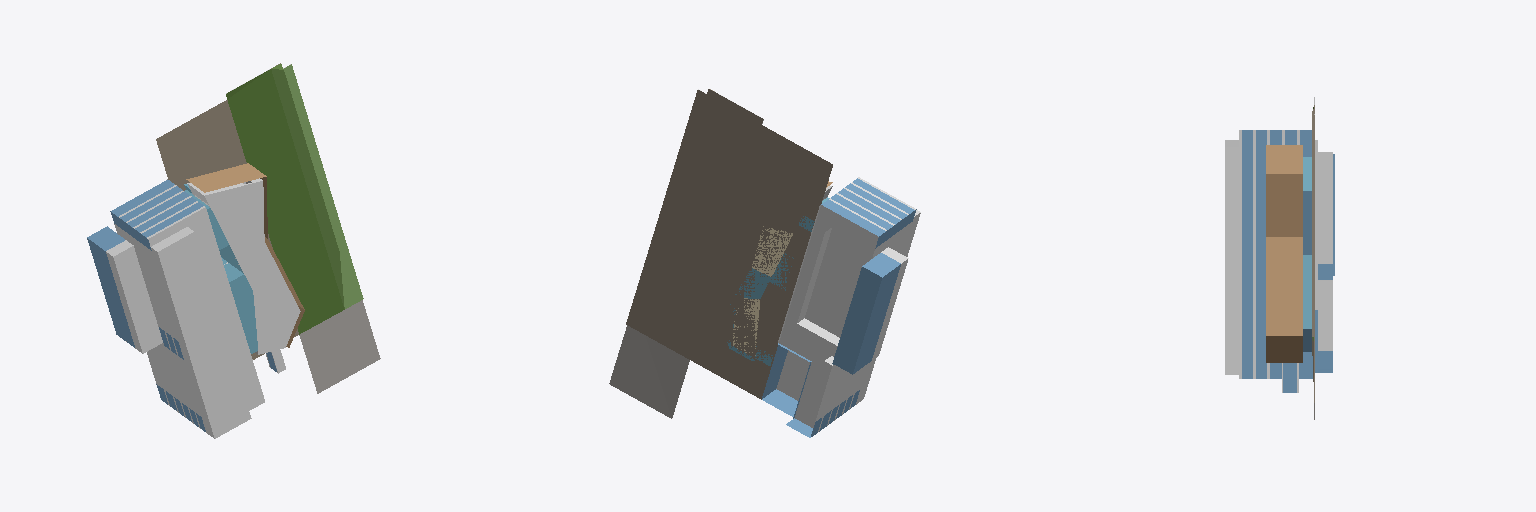
File: opt2-8.obj
3 renders of one model, left to right at view 1: azimuth 30°, elevation 25°; view 2: azimuth 150°, elevation 25°; view 3: azimuth 270°, elevation 25°, orthographic.
Size of the model in its own units: 330 by 378 by 110.